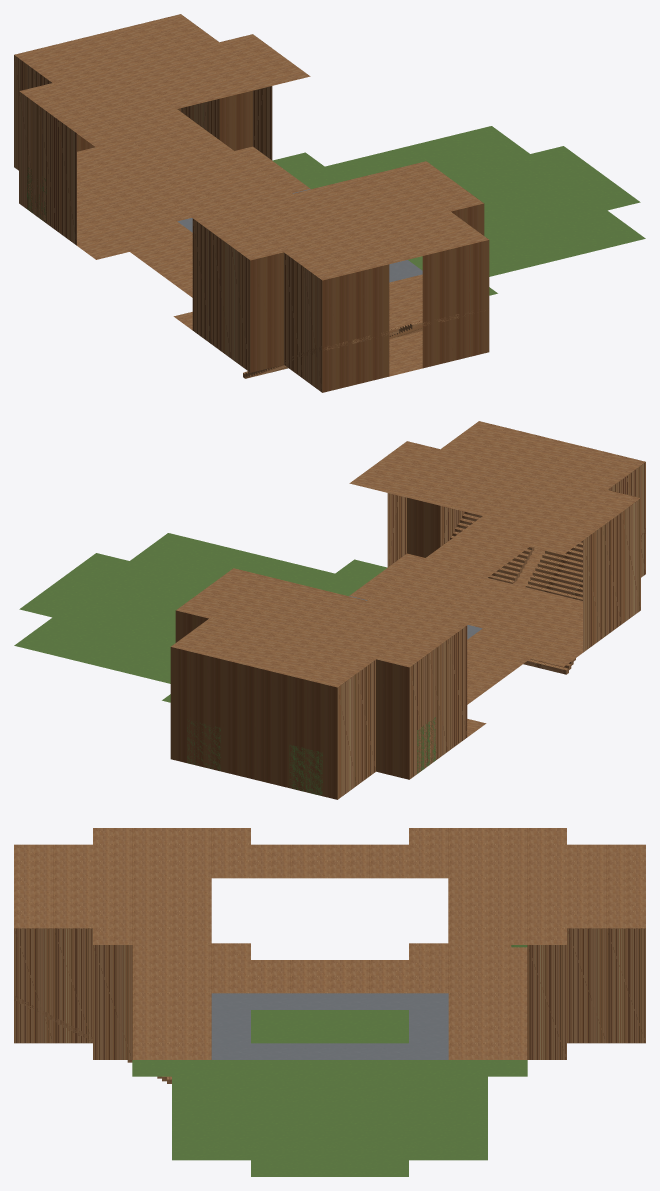
The model's file is books.glb.
3 renders of one model, top to bottom at view 1: azimuth 30°, elevation 25°; view 2: azimuth 150°, elevation 25°; view 3: azimuth 270°, elevation 25°, orthographic. The views are drawn at different scales.
Parts seen in each view (by area): view 1: Plane.002, Plane.016, Plane.064, Plane.032, Plane.080, Plane.109, Plane.011, Plane.012, Plane.003, Plane.004, Plane.013, Plane.017 (+128 smaller); view 2: Plane.031, Plane.013, Plane.047, Plane.063, Plane.079, Plane.095, Cube, Plane.098, Plane.004, Plane.003, Plane.011, Plane.002 (+125 smaller); view 3: Plane.094, Plane.095, Plane.080, Plane.081, Plane.098, Plane.109, Plane.036, Plane.038, Plane.040, Plane.042, Plane.084, Plane.086 (+190 smaller).
Part boxes in pixels (x1,y1,x2,y2): Plane.002: (231,246,283,372); Plane.016: (303,266,355,392); Plane.064: (403,248,455,368); Plane.032: (355,264,389,384); Plane.080: (456,240,489,360); Plane.109: (219,86,272,164); Plane.011: (57,119,109,245); Plane.012: (38,105,90,231); Plane.003: (212,232,231,358); Plane.004: (192,218,211,344); Plane.013: (19,91,38,216); Plane.017: (284,252,302,378); Plane.031: (304,673,356,799); Plane.013: (376,653,428,779); Plane.047: (270,671,304,791); Plane.063: (237,663,270,783); Plane.079: (204,655,237,775); Plane.095: (170,647,203,767); Cube: (450,512,645,674); Plane.098: (387,493,440,571); Plane.004: (550,526,602,652); Plane.003: (569,512,621,638); Plane.011: (448,625,467,751); Plane.002: (621,498,640,623); Plane.094: (567,928,606,1043); Plane.095: (606,928,645,1043); Plane.080: (14,928,53,1043); Plane.081: (53,928,92,1043); Plane.098: (93,945,132,1059); Plane.109: (527,945,566,1059); Plane.036: (172,976,211,993); Plane.038: (251,976,290,993); Plane.040: (330,976,369,993); Plane.042: (409,976,448,993); Plane.084: (172,1026,211,1043); Plane.086: (251,1026,290,1043).
Size of what is drawn, in the model's own units: 224 by 70.88 by 256.
Materials: 10 (10 with a texture image).
